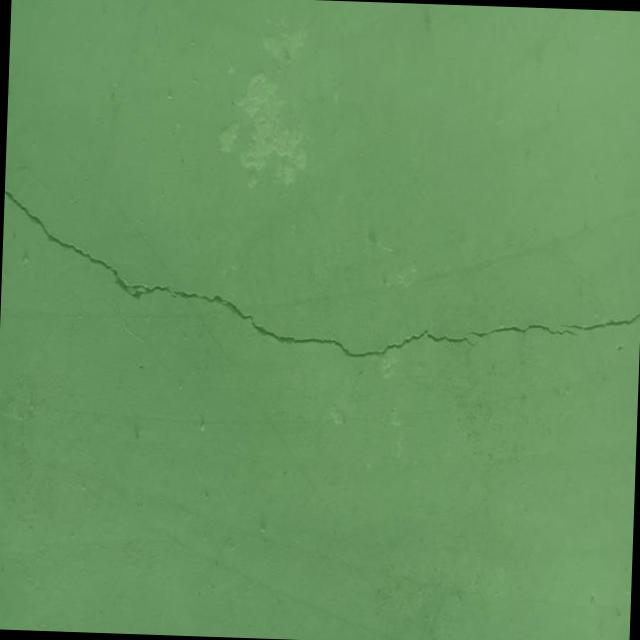crack: (0, 188, 483, 362), (465, 306, 640, 343)
